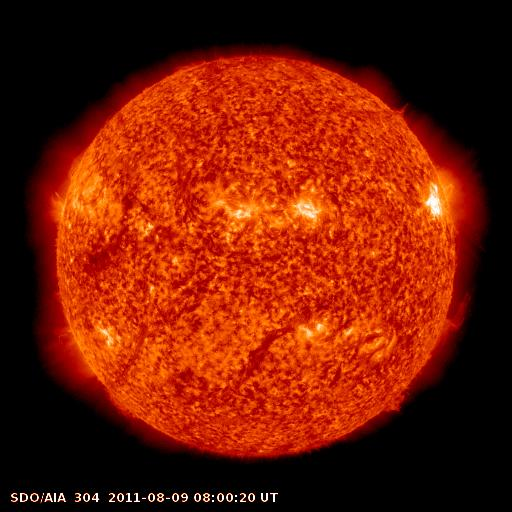prominence: (427, 286, 482, 349), (379, 385, 413, 418)
